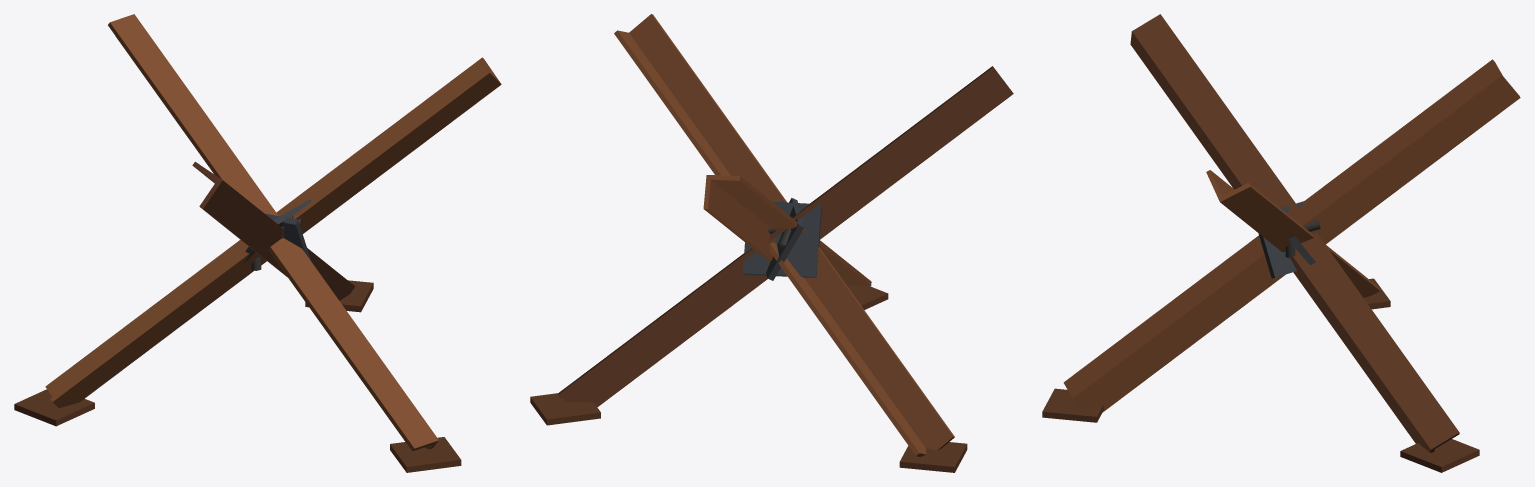
The model's file is hedgehog_beach.glb.
3 views of the same model, side by side, from view 1: azimuth 30°, elevation 25°; view 2: azimuth 150°, elevation 25°; view 3: azimuth 270°, elevation 25° (orthographic).
Visible parts, largest first — view 1: hedgehog_beach; view 2: hedgehog_beach; view 3: hedgehog_beach.
Boxes of the visible parts, box(x1,y1,x2,y2) form: hedgehog_beach: box(14, 14, 501, 472); hedgehog_beach: box(530, 14, 1013, 472); hedgehog_beach: box(1042, 14, 1520, 472).
Size of the model in its own units: 2.15 by 1.62 by 2.22.
